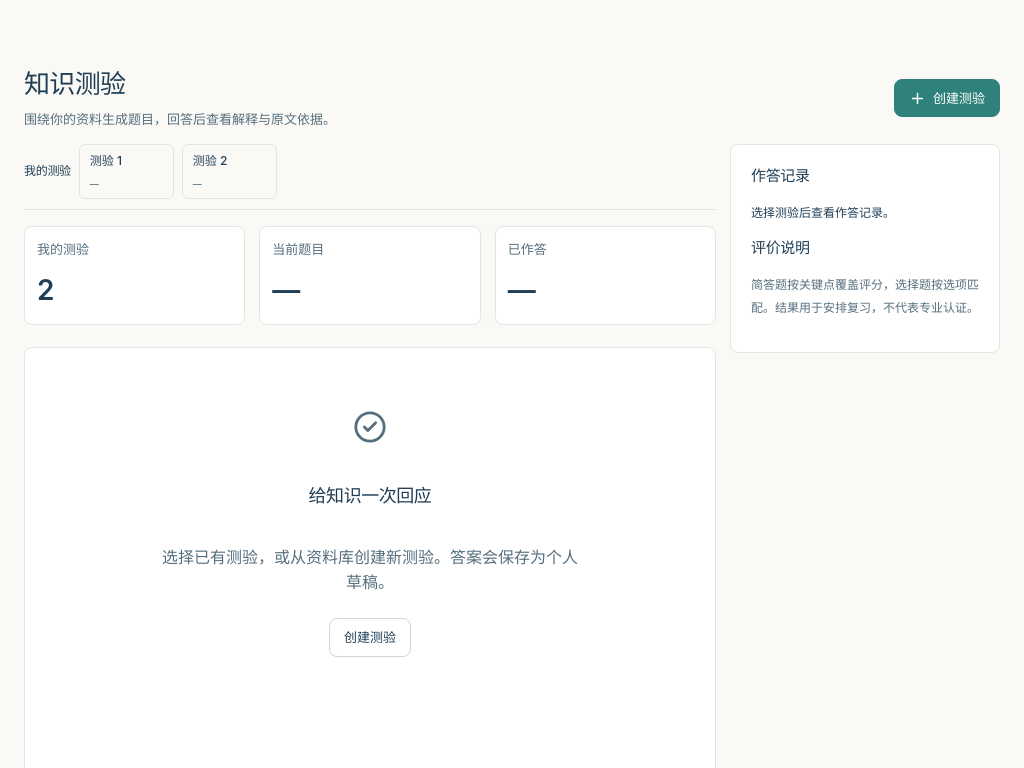
Test: a history outage does not block the draft or erase answers when history recovers
Step 1. Click the button "测验 1 —" → [126, 172], box [79,144,174,199]
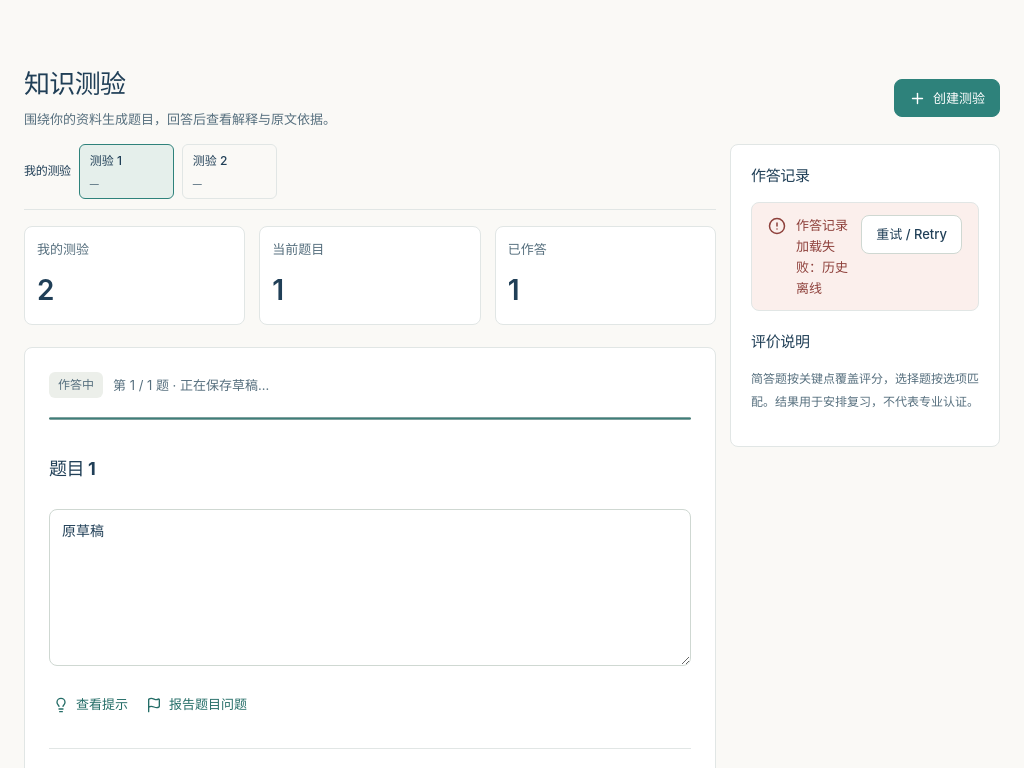
Now the text box named "你的答案" is shown
Now the text box named "你的答案" holds "原草稿"
Now the text "作答记录加载失败：历史离线" is shown, box [796,215,851,298]
Step 2. Replace the text in the text box named "你的答案" with "未提交新草稿" → [370, 587], box [49,509,691,666]
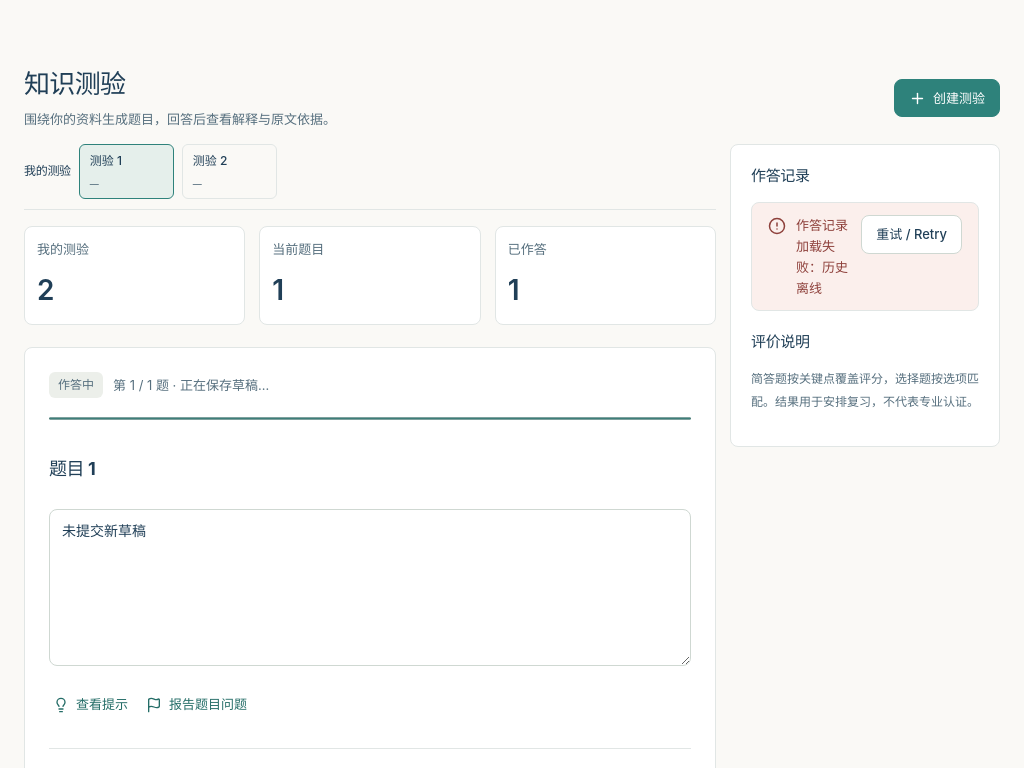
Step 3. Click the button "重试 / Retry" → [912, 235], box [861,215,962,254]
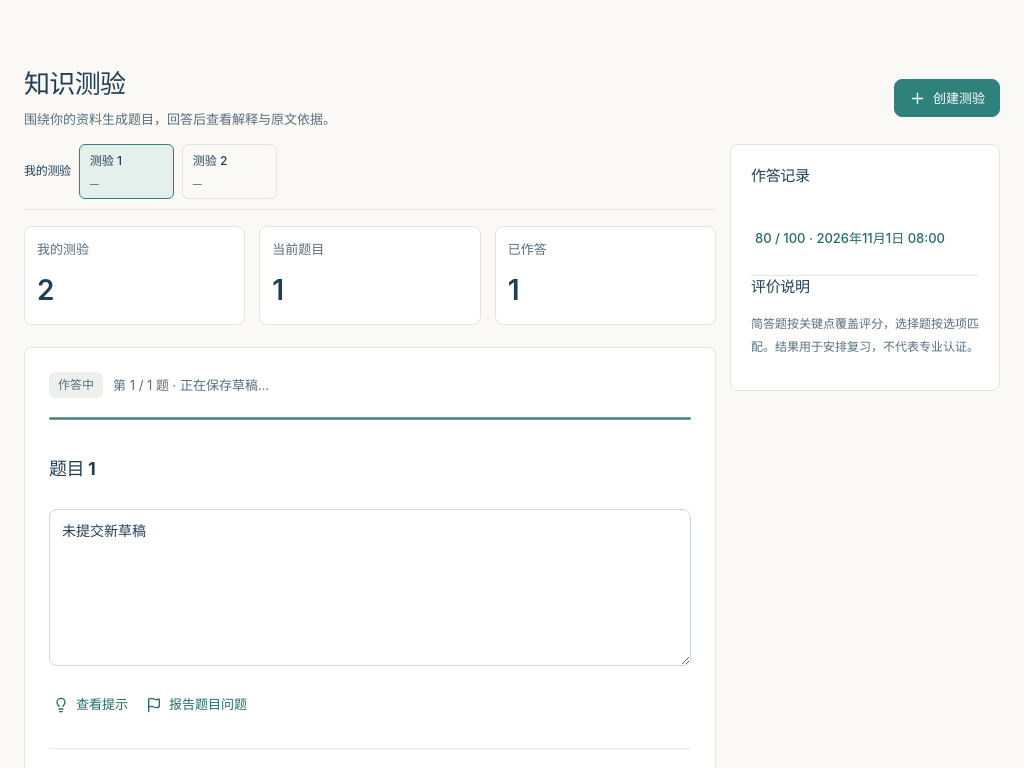
Now the button "80 / 100 · 2026年11月1日 08:00" is shown, box [751,218,949,259]
